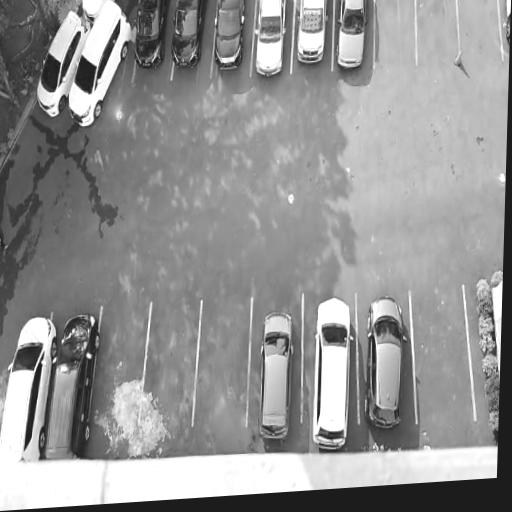Car: (59, 0, 136, 134), (41, 310, 103, 463), (0, 308, 60, 464), (305, 290, 356, 451), (359, 288, 412, 440), (28, 0, 92, 124), (250, 303, 299, 444), (167, 0, 211, 78), (251, 0, 291, 83), (129, 0, 172, 72), (210, 0, 250, 76), (334, 0, 372, 76), (293, 0, 331, 75), (76, 0, 113, 24)
Space Available: (410, 283, 476, 423), (139, 299, 202, 425), (192, 296, 252, 426), (88, 301, 152, 421), (415, 0, 461, 64), (375, 0, 415, 67), (458, 0, 503, 59)
